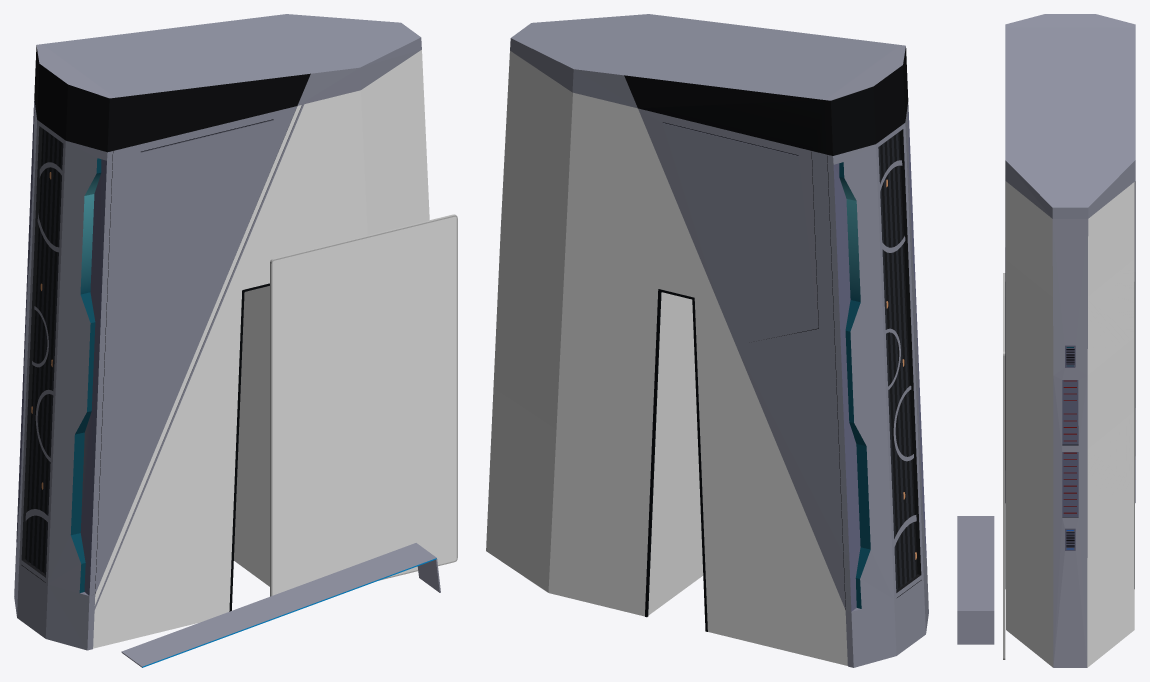
Rendered from Building_Hana_001_2st_L3.fbx.
3 renders of one model, left to right at view 1: azimuth 30°, elevation 25°; view 2: azimuth 150°, elevation 25°; view 3: azimuth 270°, elevation 25°, orthographic. The views are drawn at different scales.
Parts seen in each view (by area): view 1: Building_Hana_001_2st_L3; view 2: Building_Hana_001_2st_L3; view 3: Building_Hana_001_2st_L3.
Part boxes in pixels (bbox=[...]): Building_Hana_001_2st_L3: bbox=[14, 14, 457, 667]; Building_Hana_001_2st_L3: bbox=[486, 14, 928, 667]; Building_Hana_001_2st_L3: bbox=[957, 14, 1135, 667].
Size of the model in its own units: 58.59 by 76.63 by 25.15.
